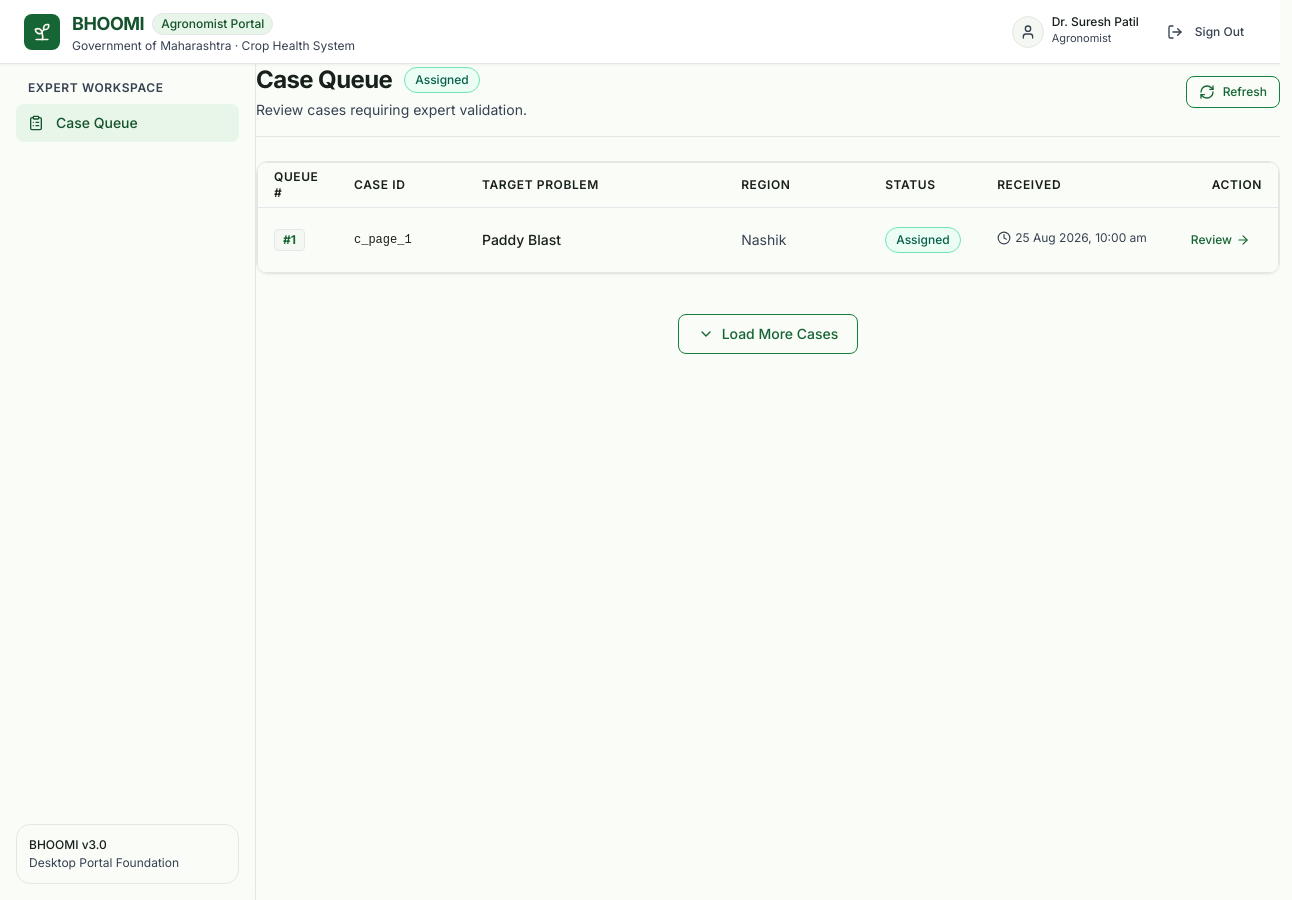
Test: F12 — Agronomist Case Queue Tests › handles "Load More Cases" using opaque next_cursor without modifying it
Expected: the text "Paddy Blast" is shown, [482, 230, 561, 248]
// Click Load More
Click the button "Load More Cases": [768, 334] box [678, 314, 858, 354]
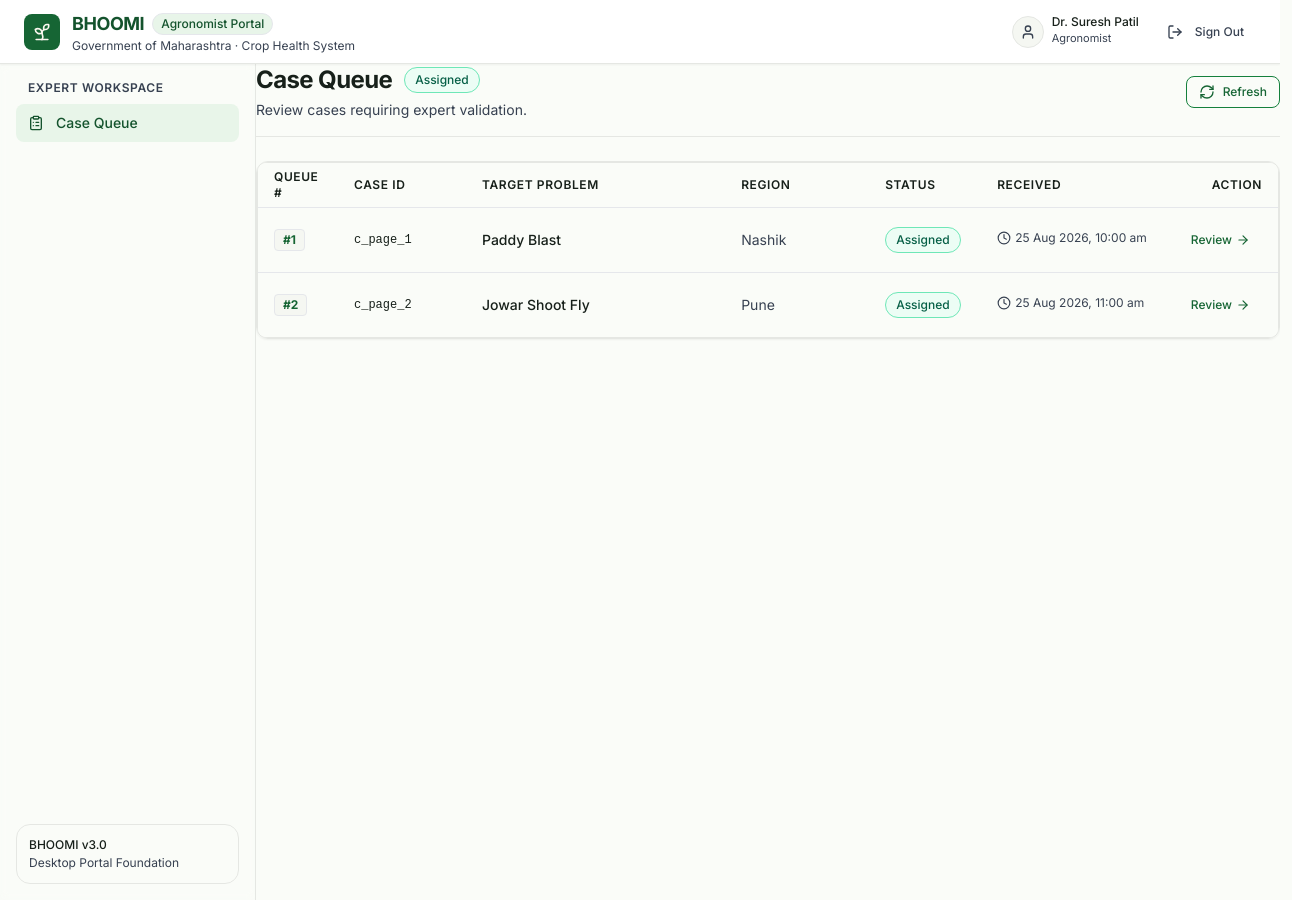
Expected: the text "Jowar Shoot Fly" is shown, [482, 296, 590, 312]
Expected: the button "Load More Cases" is gone
